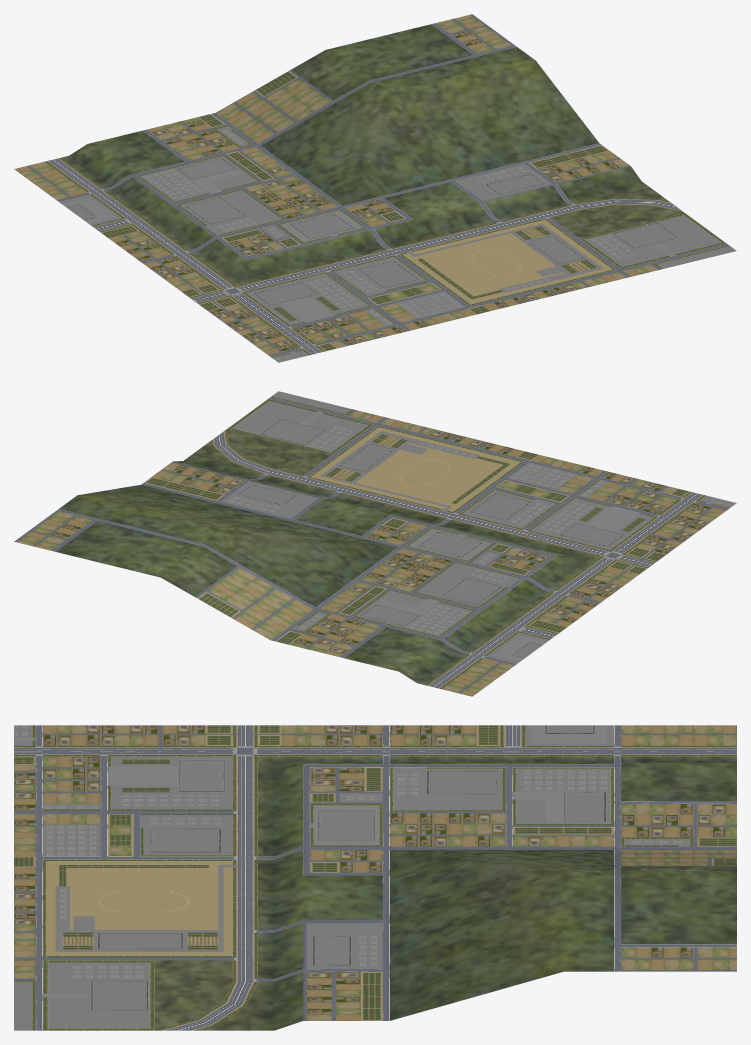
3 views of the same model, one above another, from view 1: azimuth 30°, elevation 25°; view 2: azimuth 150°, elevation 25°; view 3: azimuth 270°, elevation 25° (orthographic). The views are drawn at different scales.
Parts seen in each view (by area): view 1: Joint_0_Object_0, Joint_0_Object_1, Joint_0_Object_2; view 2: Joint_0_Object_0, Joint_0_Object_1, Joint_0_Object_2; view 3: Joint_0_Object_0, Joint_0_Object_1, Joint_0_Object_2.
Part boxes in pixels (<box>): Joint_0_Object_0: <box>14,14,736,362</box>; Joint_0_Object_1: <box>61,24,684,285</box>; Joint_0_Object_2: <box>101,71,607,350</box>; Joint_0_Object_0: <box>14,391,736,696</box>; Joint_0_Object_1: <box>55,429,599,685</box>; Joint_0_Object_2: <box>146,434,688,644</box>; Joint_0_Object_0: <box>14,725,736,1030</box>; Joint_0_Object_1: <box>155,756,736,1030</box>; Joint_0_Object_2: <box>14,725,736,1020</box>.
Size of the model in its own units: 10000 by 912 by 10000.
3 materials, 3 textured.
